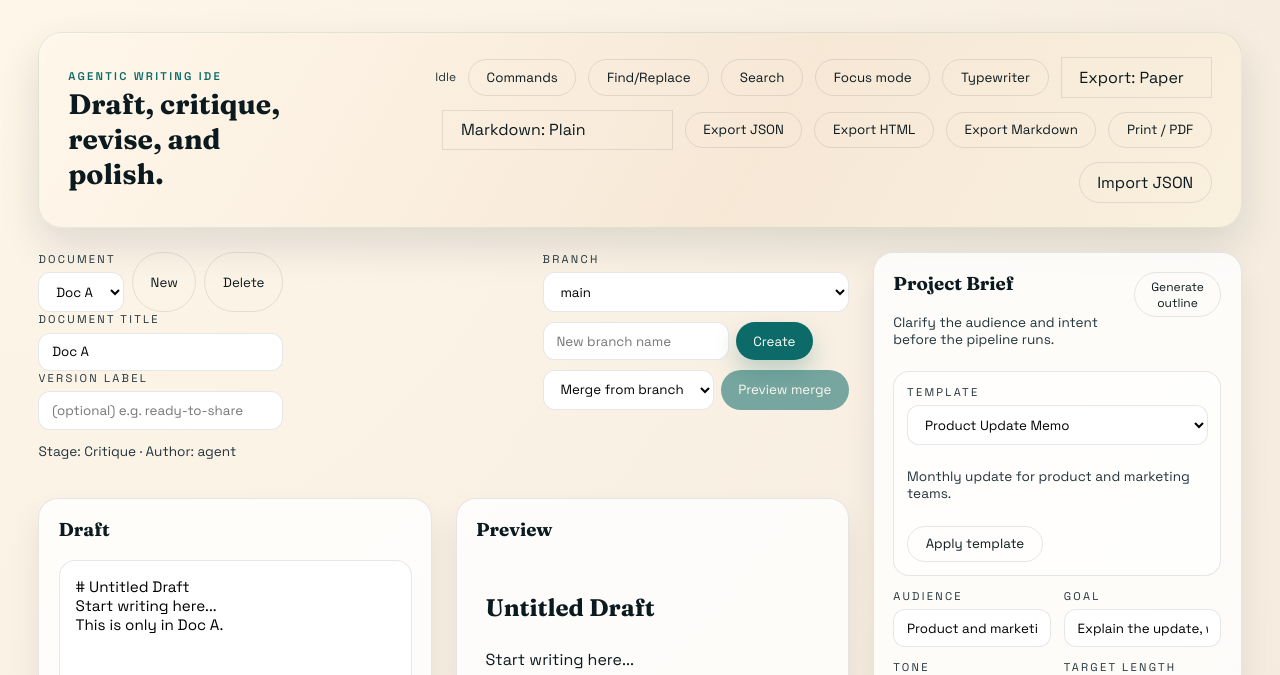
Test: App › prevents creating duplicate branch names
This screenshot has width=1280, height=675.
Type "main" into the field with placeholder "New branch name" at (636, 341), box [543,322,729,360]
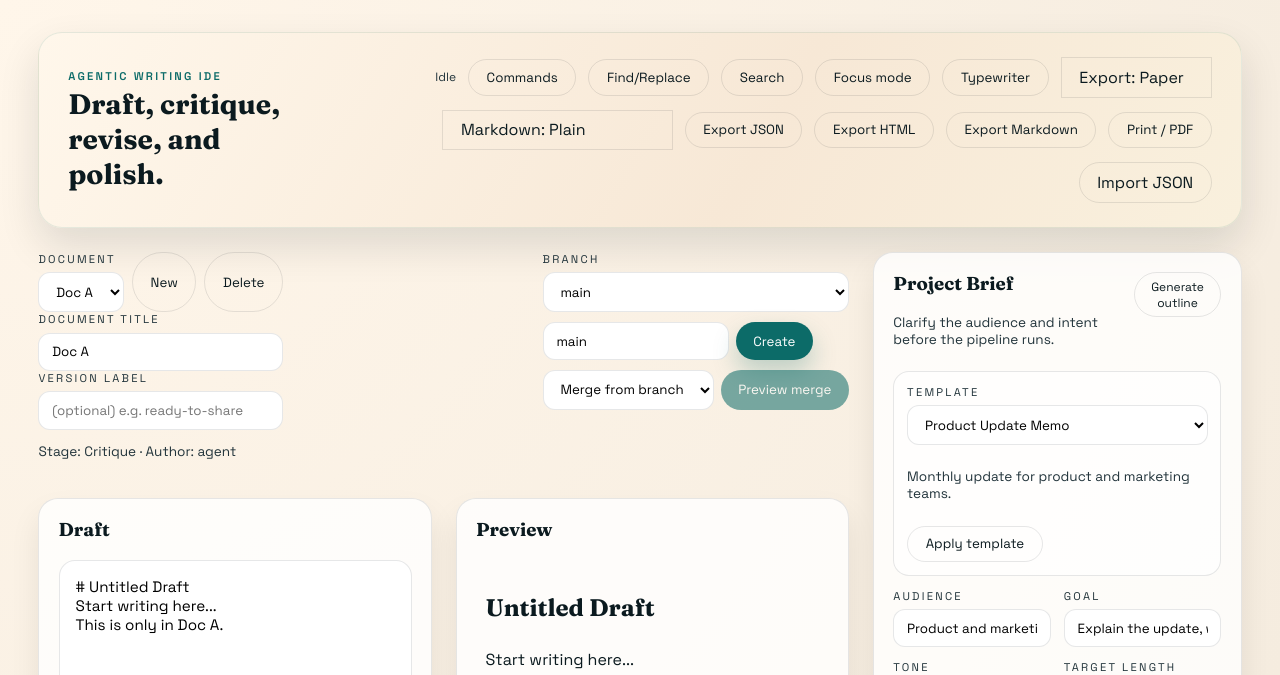
Click the button "Create" at (774, 341), box [736,322,813,360]
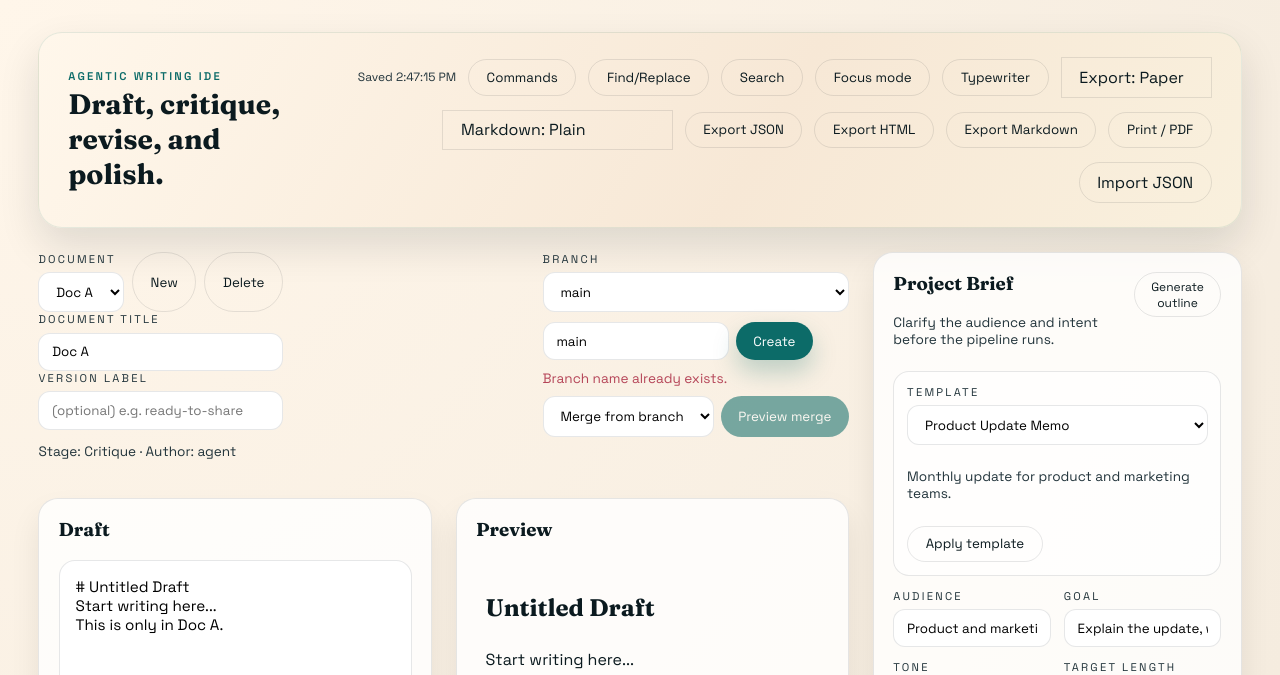
Expected: the text "Branch name already exists." is shown, [543,370,727,387]
